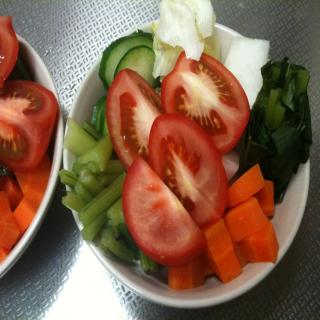tomato: (159, 48, 248, 157), (123, 163, 201, 273), (150, 114, 232, 215), (104, 69, 159, 166), (0, 84, 58, 172), (0, 14, 18, 89)
